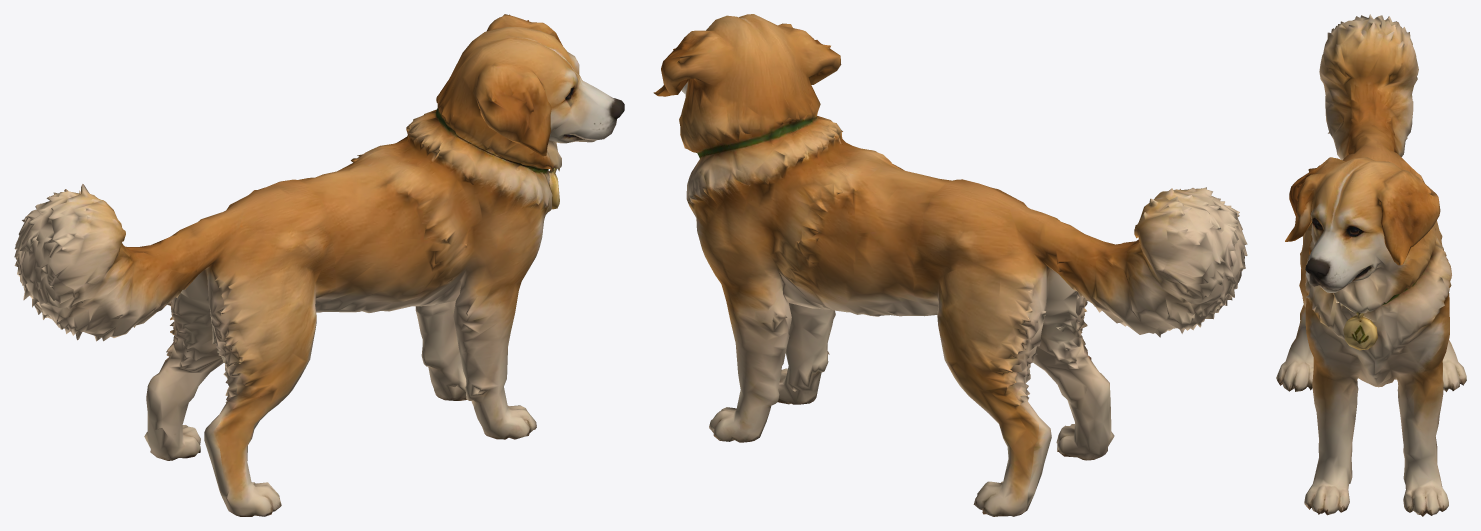
File: dog.glb
3 views of the same model, side by side, from view 1: azimuth 30°, elevation 25°; view 2: azimuth 150°, elevation 25°; view 3: azimuth 270°, elevation 25° (orthographic). The views are drawn at different scales.
Visible parts, largest first — view 1: tripo_node_ef95ac03-d69a-4210-9d4a-b8e58be9a066; view 2: tripo_node_ef95ac03-d69a-4210-9d4a-b8e58be9a066; view 3: tripo_node_ef95ac03-d69a-4210-9d4a-b8e58be9a066.
Boxes of the visible parts, bbox=[...] form: tripo_node_ef95ac03-d69a-4210-9d4a-b8e58be9a066: bbox=[14, 14, 624, 516]; tripo_node_ef95ac03-d69a-4210-9d4a-b8e58be9a066: bbox=[653, 14, 1247, 516]; tripo_node_ef95ac03-d69a-4210-9d4a-b8e58be9a066: bbox=[1276, 14, 1466, 516].
Size of the model in its own units: 0.9994 by 0.6334 by 0.3074.
1 material, 1 textured.
